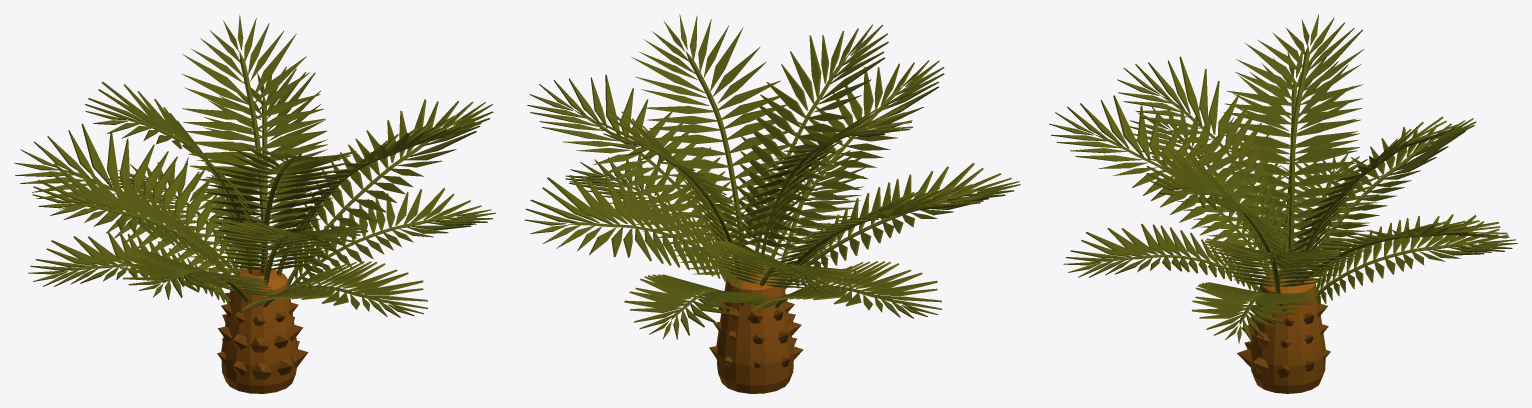
File: cycad.fbx
3 renders of one model, left to right at view 1: azimuth 30°, elevation 25°; view 2: azimuth 150°, elevation 25°; view 3: azimuth 270°, elevation 25°, orthographic. The views are drawn at different scales.
Parts seen in each view (by area): view 1: Leaves, Trunk, Spikes; view 2: Leaves, Trunk, Spikes; view 3: Leaves, Trunk, Spikes.
Part boxes in pixels (box(x1,y1,x2,y2)): Leaves: box(14, 14, 495, 317); Trunk: box(221, 266, 297, 393); Spikes: box(217, 292, 308, 379); Leaves: box(524, 14, 1020, 339); Trunk: box(716, 265, 793, 393); Spikes: box(709, 294, 803, 367); Leaves: box(1049, 14, 1517, 343); Trunk: box(1250, 269, 1325, 393); Spikes: box(1237, 294, 1330, 377).
Bounding box in the file's own units: 1138 × 730 × 1056.
